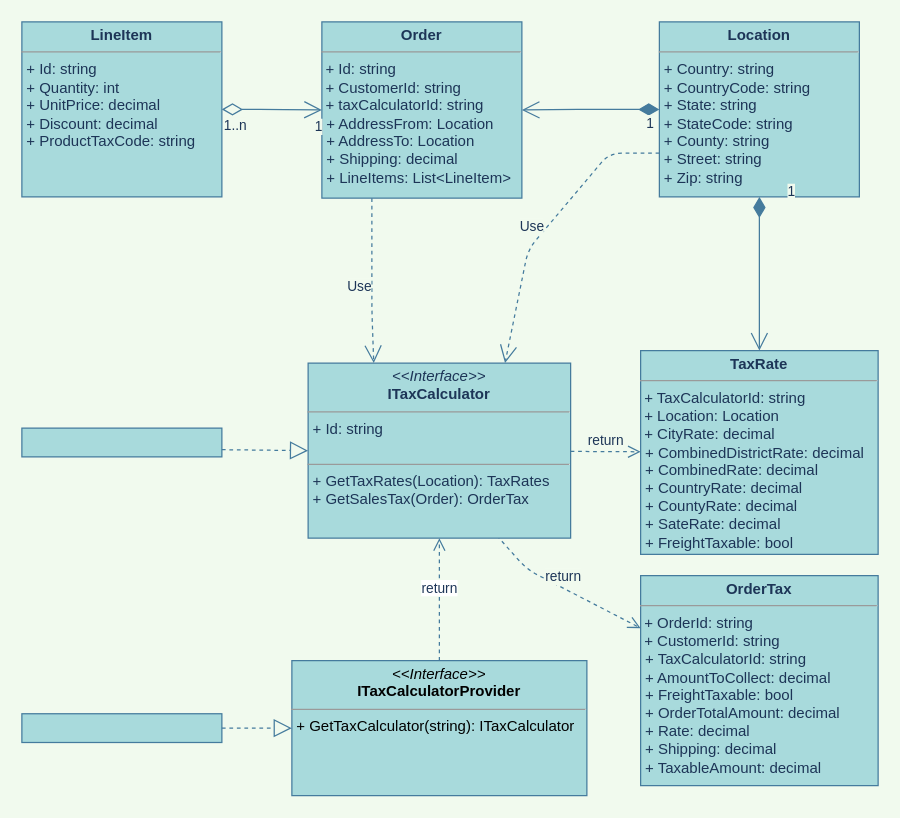
Some shapes in this 900 by 818 pixel diagram are drawn without their labels. Here are the shapes that lost their labels. From the top down, the centre of each, then its label:
At point 121,442: "TaxJarTaxCalculator".
At point 121,727: "TaxCalculatorProvider".
